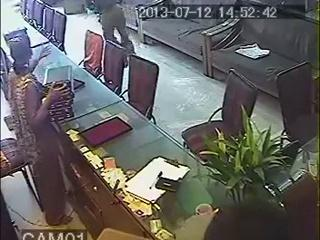Normal: (0, 59, 74, 226)
